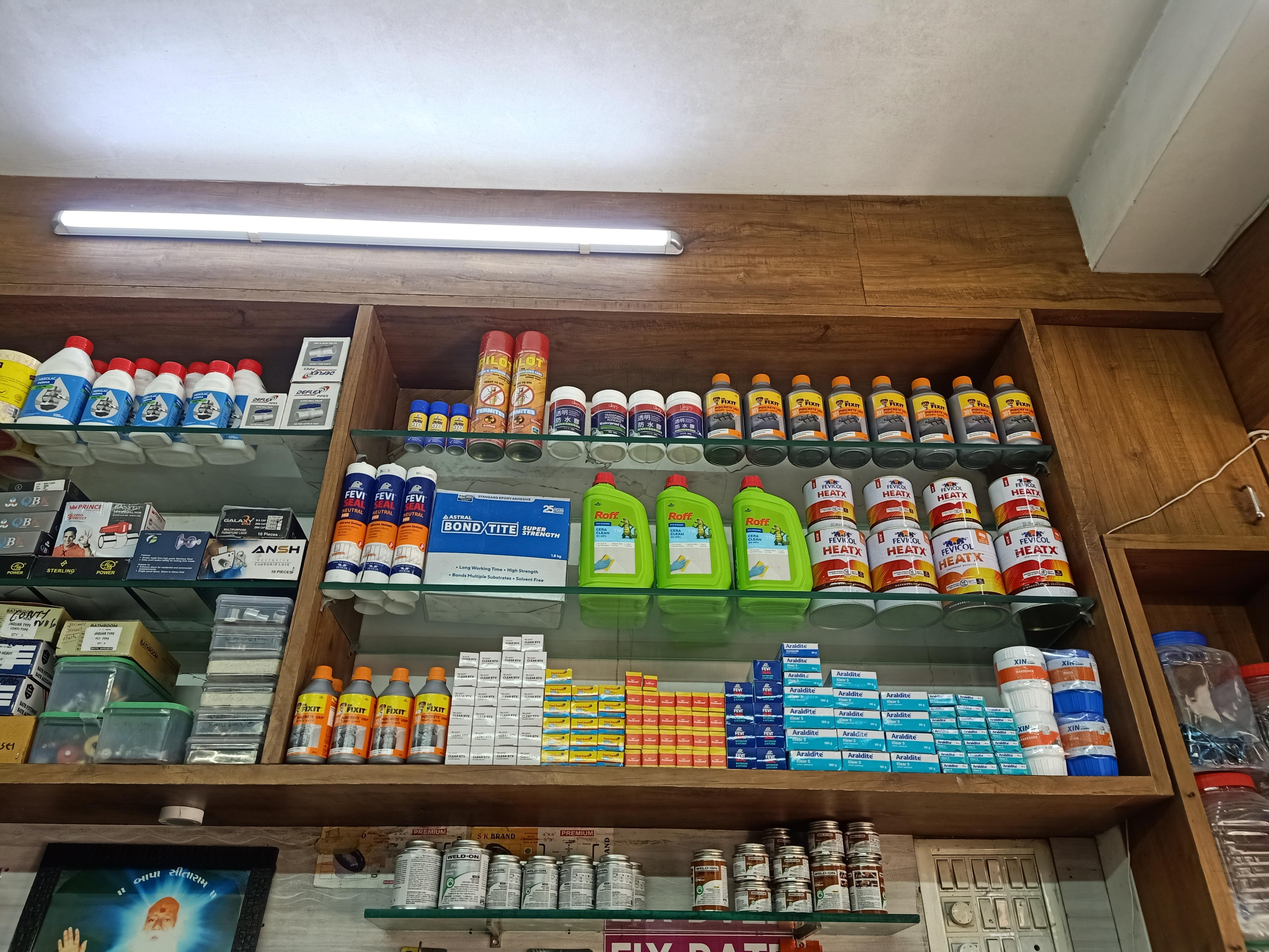Fevicol_HEATX: (994, 527, 1075, 596), (931, 529, 1006, 594), (806, 526, 873, 593), (867, 529, 937, 593), (988, 473, 1051, 531), (922, 478, 982, 536), (863, 476, 919, 532), (804, 475, 855, 526)
Fevikwik_203: (544, 717, 570, 734), (542, 749, 568, 766), (571, 734, 597, 751), (599, 684, 625, 701), (543, 733, 568, 750), (600, 701, 625, 718), (600, 718, 625, 735), (545, 685, 571, 701), (545, 700, 571, 716), (573, 685, 599, 701), (571, 703, 597, 719), (572, 717, 598, 733), (570, 750, 596, 766), (598, 735, 624, 751), (598, 751, 624, 767), (546, 670, 572, 685)
